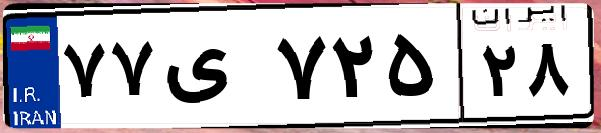2: (330, 28, 385, 110), (475, 38, 525, 113)
5: (385, 28, 445, 110)
7: (270, 28, 330, 110), (57, 26, 110, 100), (110, 28, 158, 98)
8: (525, 38, 570, 115)
ی: (158, 20, 270, 120)
